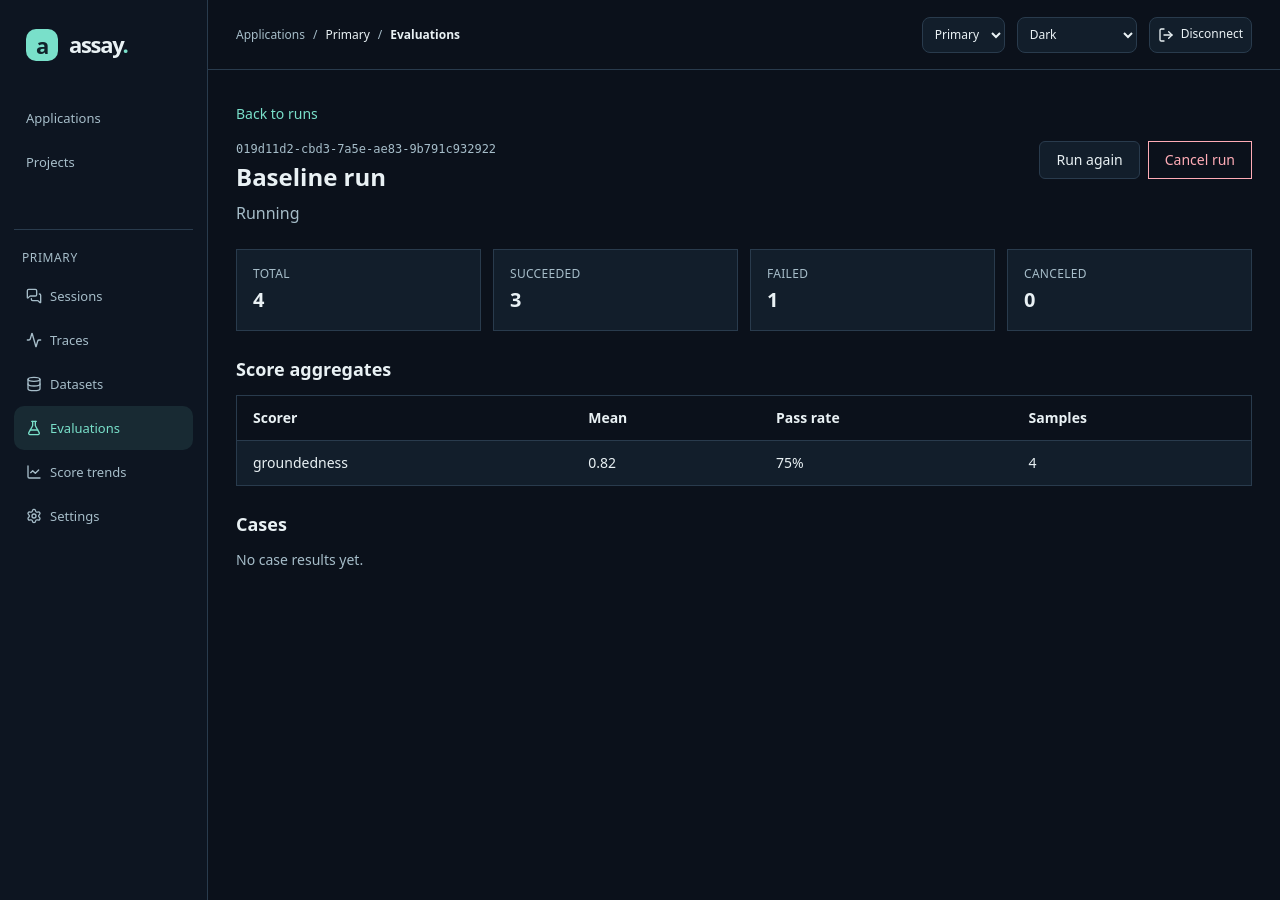
Test: confirms and applies active-run cancellation
Click the button "Cancel run" at x=1200, y=160, box x1=1148 y1=141 x2=1252 y2=179
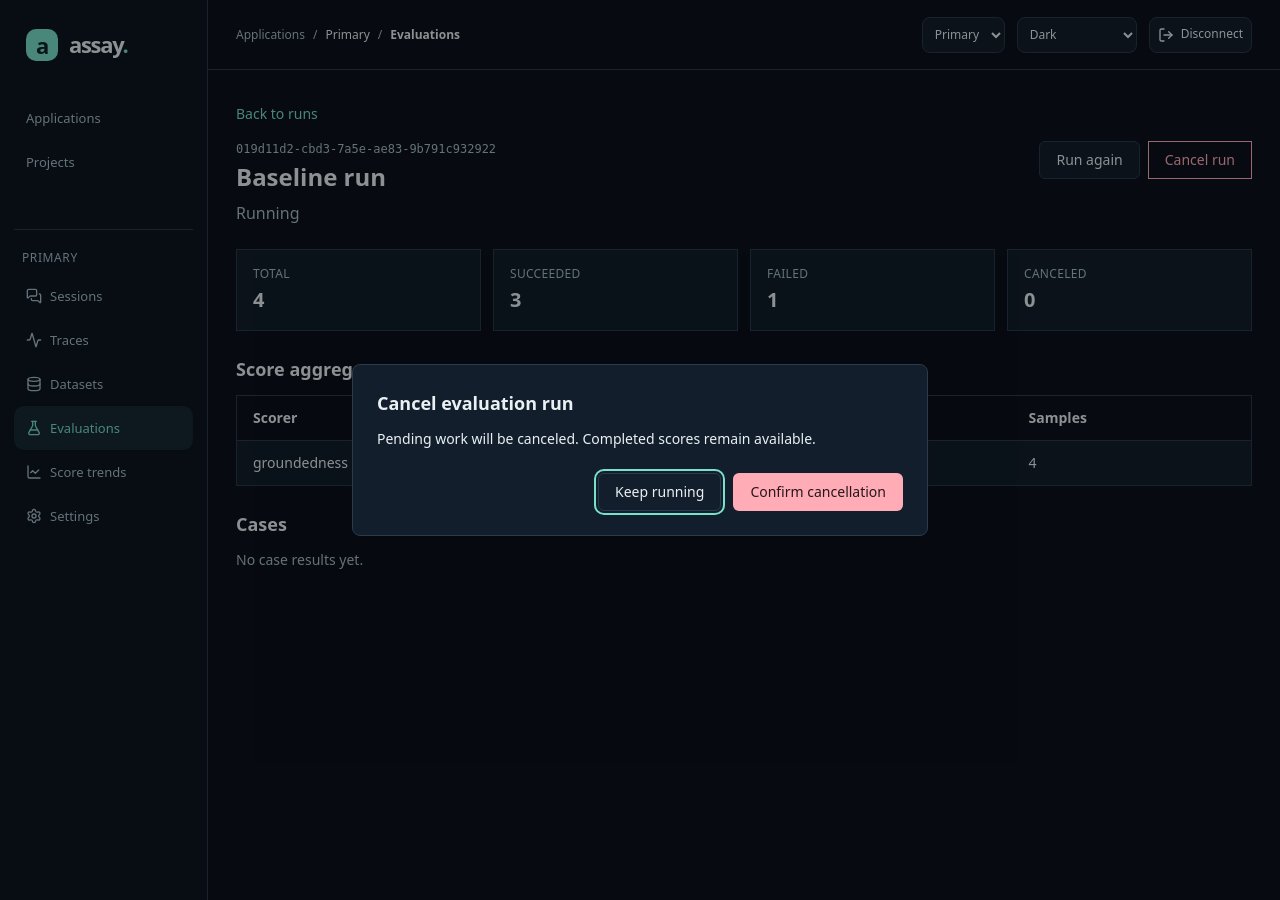
Expected: the dialog "Cancel evaluation run" is shown, x1=352 y1=364 x2=928 y2=536
Click the button "Confirm cancellation" at x=818, y=492, box x1=733 y1=473 x2=903 y2=511
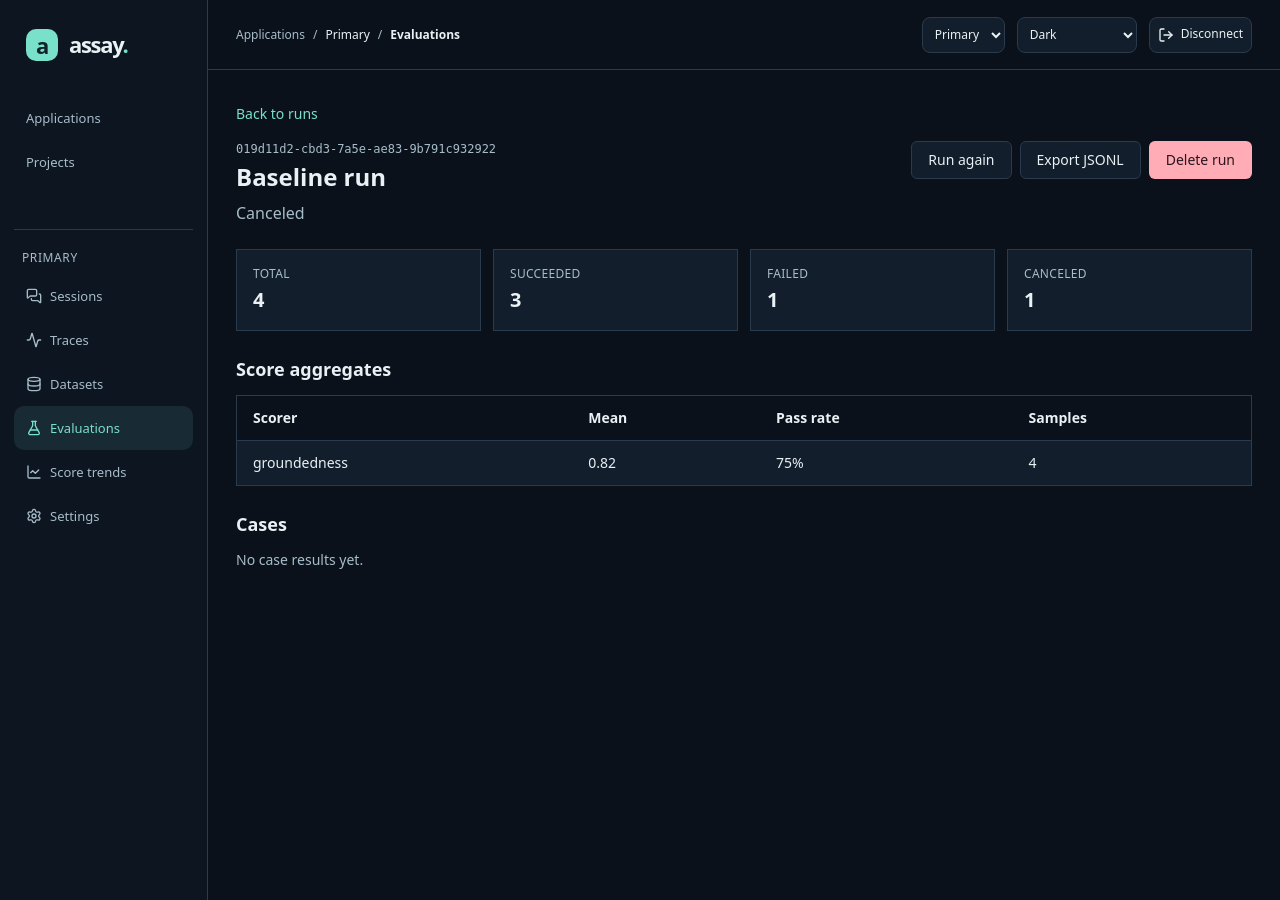
Expected: the text "canceled" is shown, x1=236 y1=202 x2=305 y2=224
Expected: the button "Cancel run" is gone
